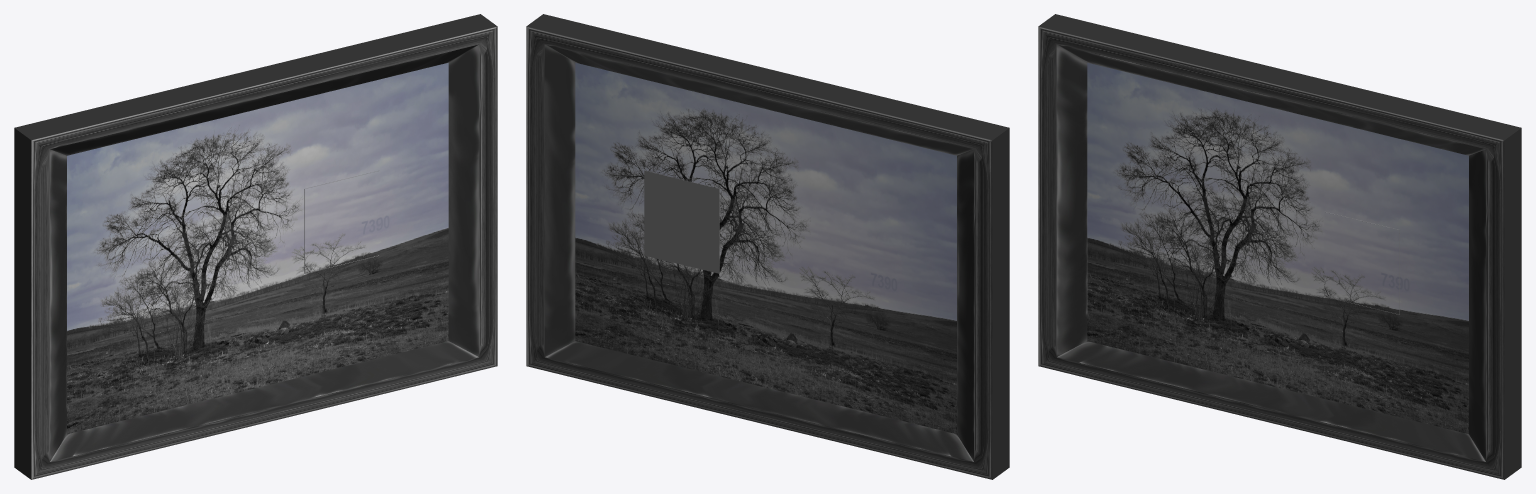
Rendered from Picture.fbx.
3 renders of one model, left to right at view 1: azimuth 30°, elevation 25°; view 2: azimuth 150°, elevation 25°; view 3: azimuth 330°, elevation 25°, orthographic.
Visible parts, largest first — view 1: polySurface11, pCube2; view 2: polySurface11, pCube2; view 3: polySurface11, pCube2.
Part boxes in pixels (x1=…): polySurface11: x1=14, y1=14, x2=497, y2=479; pCube2: x1=304, y1=170, x2=379, y2=273; polySurface11: x1=526, y1=14, x2=1009, y2=479; pCube2: x1=644, y1=170, x2=719, y2=273; polySurface11: x1=1038, y1=14, x2=1521, y2=479; pCube2: x1=1324, y1=211, x2=1399, y2=314.
Bounding box in the file's own units: 1.88 × 1.31 × 0.119.
